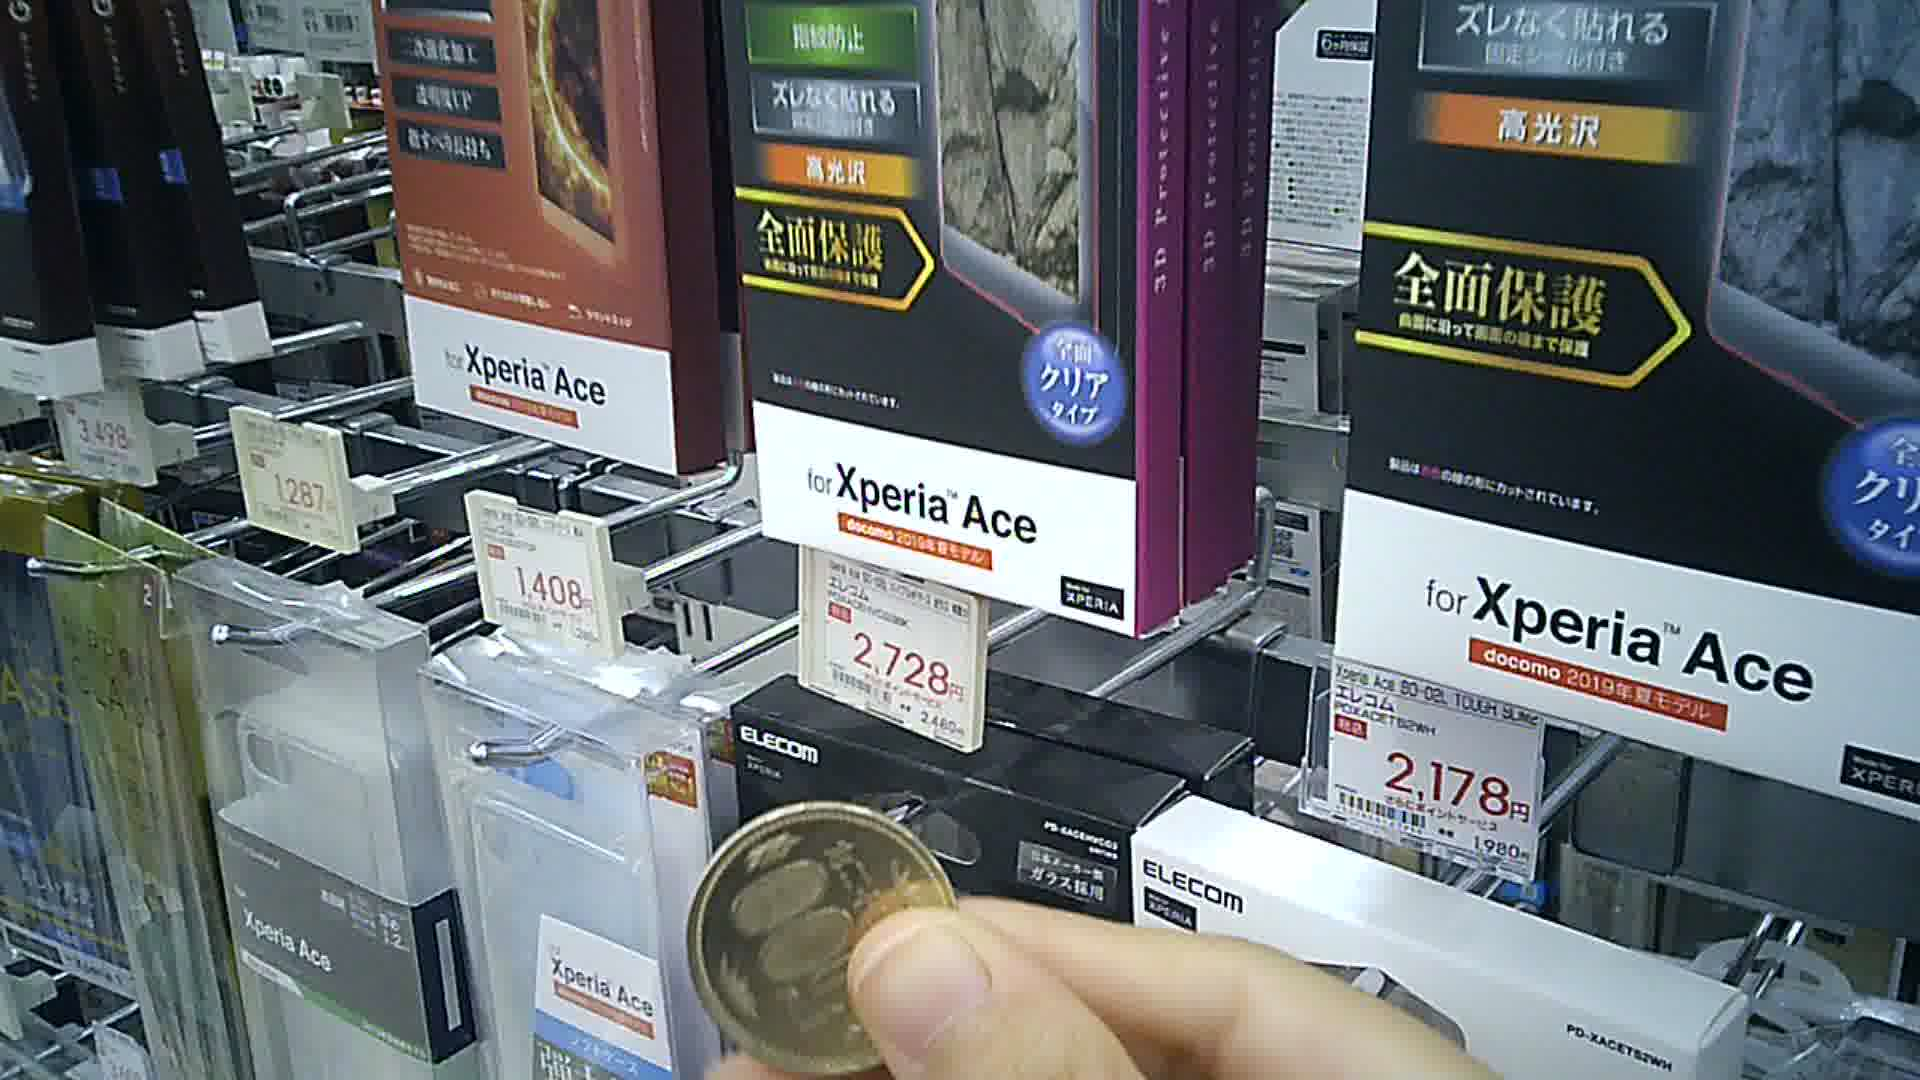500 Yen: (684, 802, 968, 1077)
